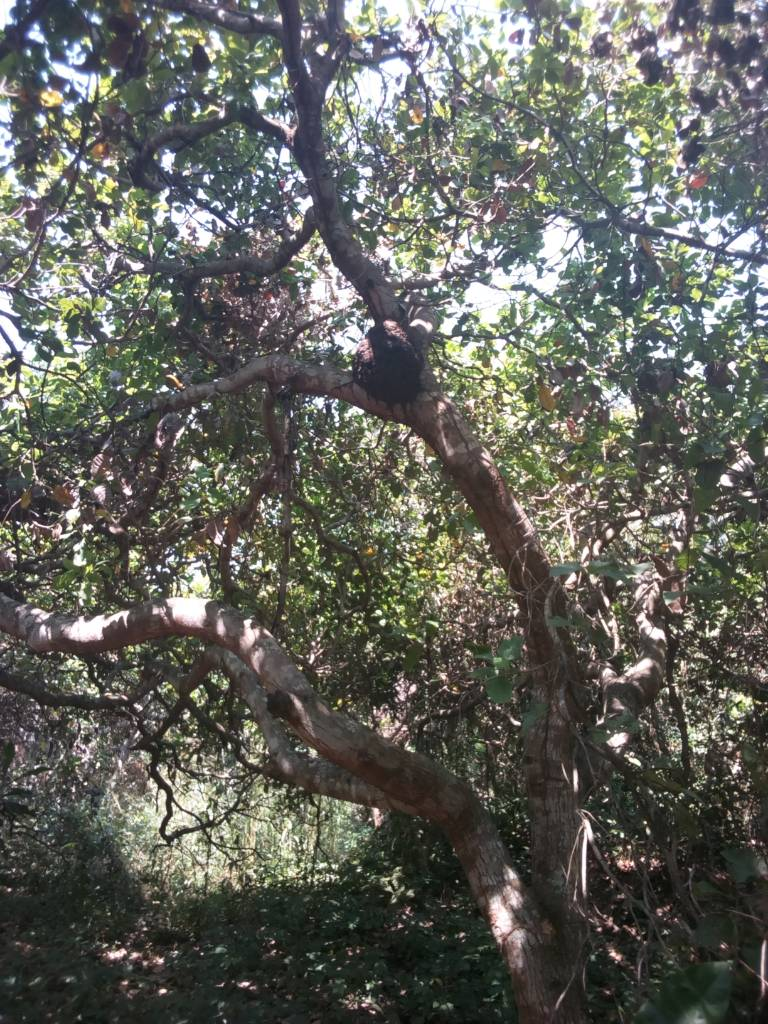Termites: (447, 461, 547, 580), (347, 321, 430, 400)
